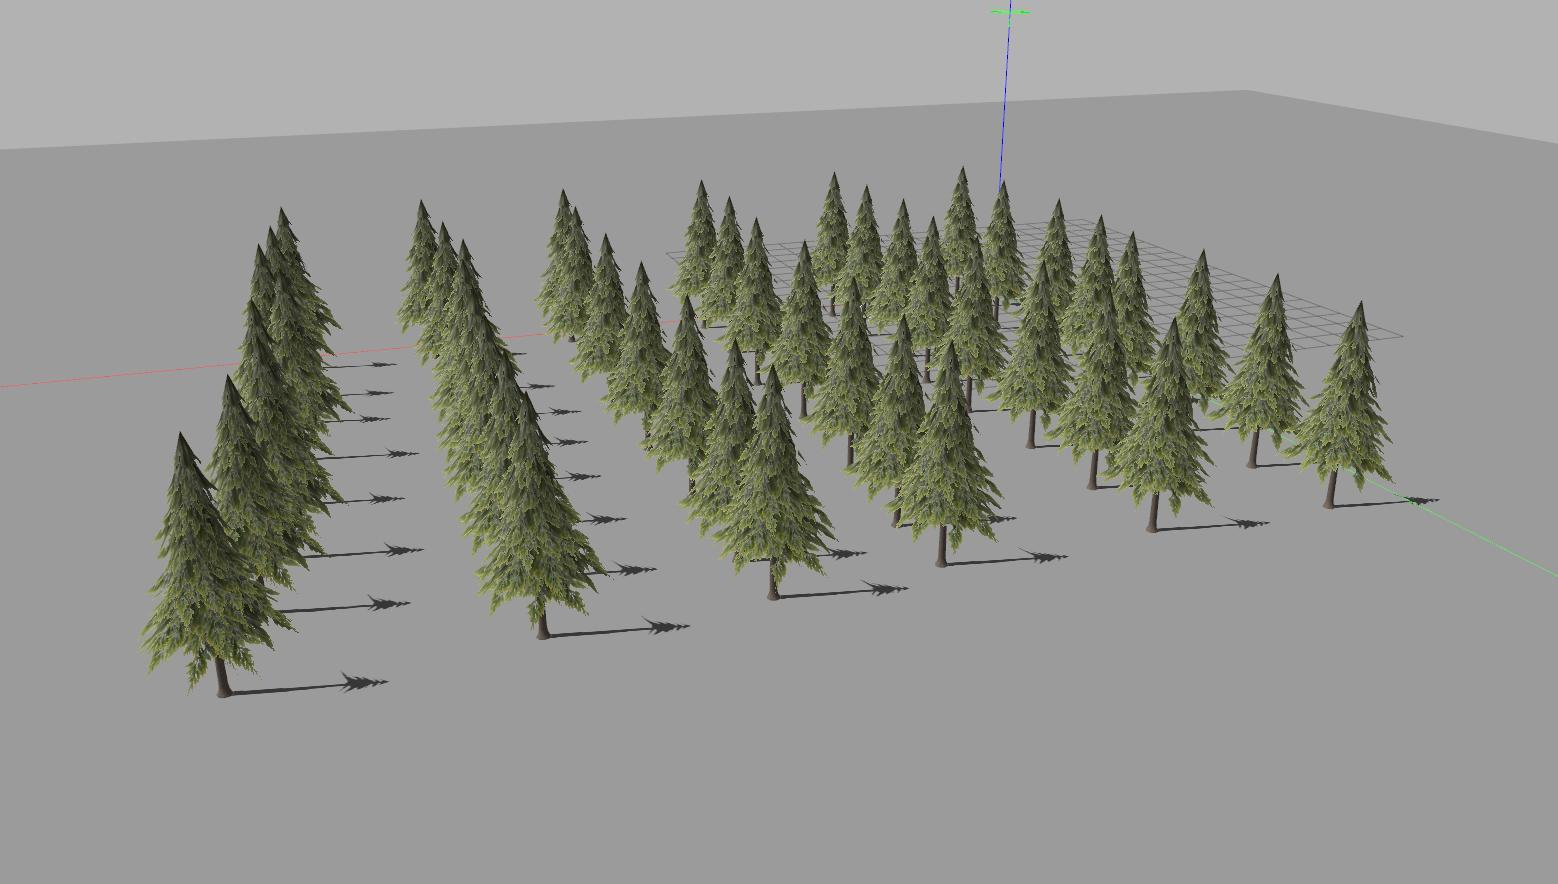tree_gazebo: (143, 436, 289, 686), (715, 365, 834, 598), (898, 340, 1002, 564), (207, 378, 317, 588), (1284, 304, 1391, 506), (234, 301, 335, 513), (1111, 322, 1211, 531), (1053, 289, 1135, 488), (1218, 274, 1302, 467), (642, 295, 718, 486), (998, 264, 1071, 446), (812, 283, 880, 464), (602, 264, 670, 433), (769, 241, 830, 415), (944, 243, 1007, 407), (724, 219, 782, 382), (1178, 249, 1229, 411), (572, 234, 627, 380), (904, 219, 952, 382), (867, 201, 919, 330), (1114, 231, 1157, 383), (700, 198, 746, 324), (983, 183, 1025, 315), (670, 180, 715, 299), (840, 185, 883, 303), (812, 173, 849, 311), (941, 167, 980, 288)
